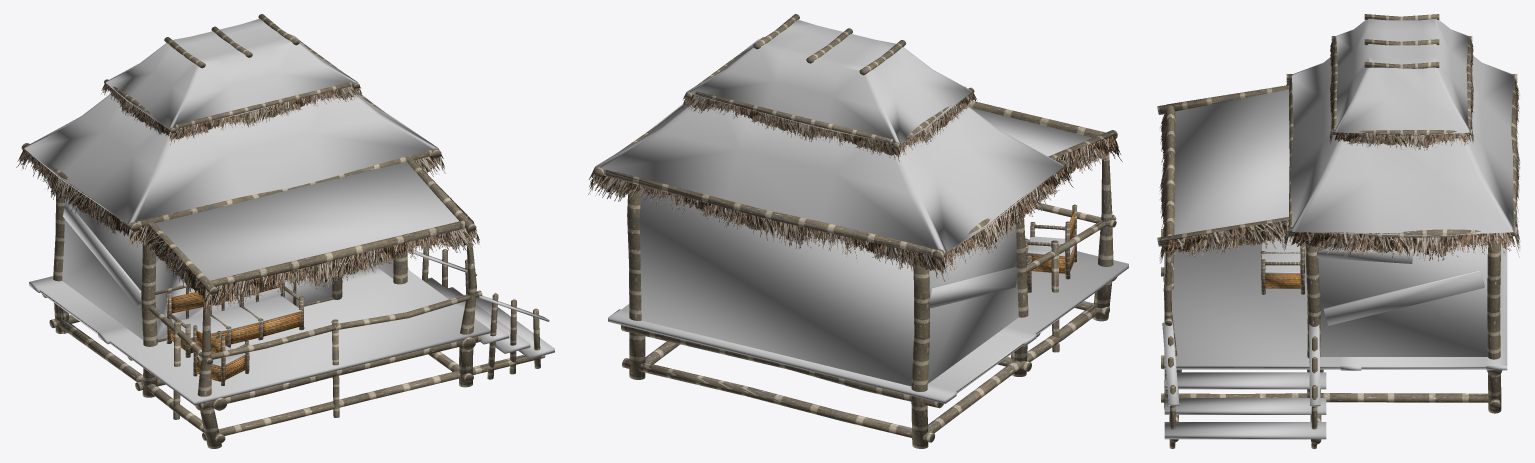
The model's file is shack.fbx.
The picture shows the model from 3 angles, left to right: view 1: azimuth 30°, elevation 25°; view 2: azimuth 150°, elevation 25°; view 3: azimuth 270°, elevation 25°; orthographic projection. The views are drawn at different scales.
Parts seen in each view (by area): view 1: Mesh; view 2: Mesh; view 3: Mesh.
Boxes of the visible parts, x1,y1,x2,y2 form: Mesh: [16, 14, 554, 448]; Mesh: [588, 14, 1128, 448]; Mesh: [1157, 14, 1519, 448].
Bounding box in the file's own units: 1023 × 782 × 832.
